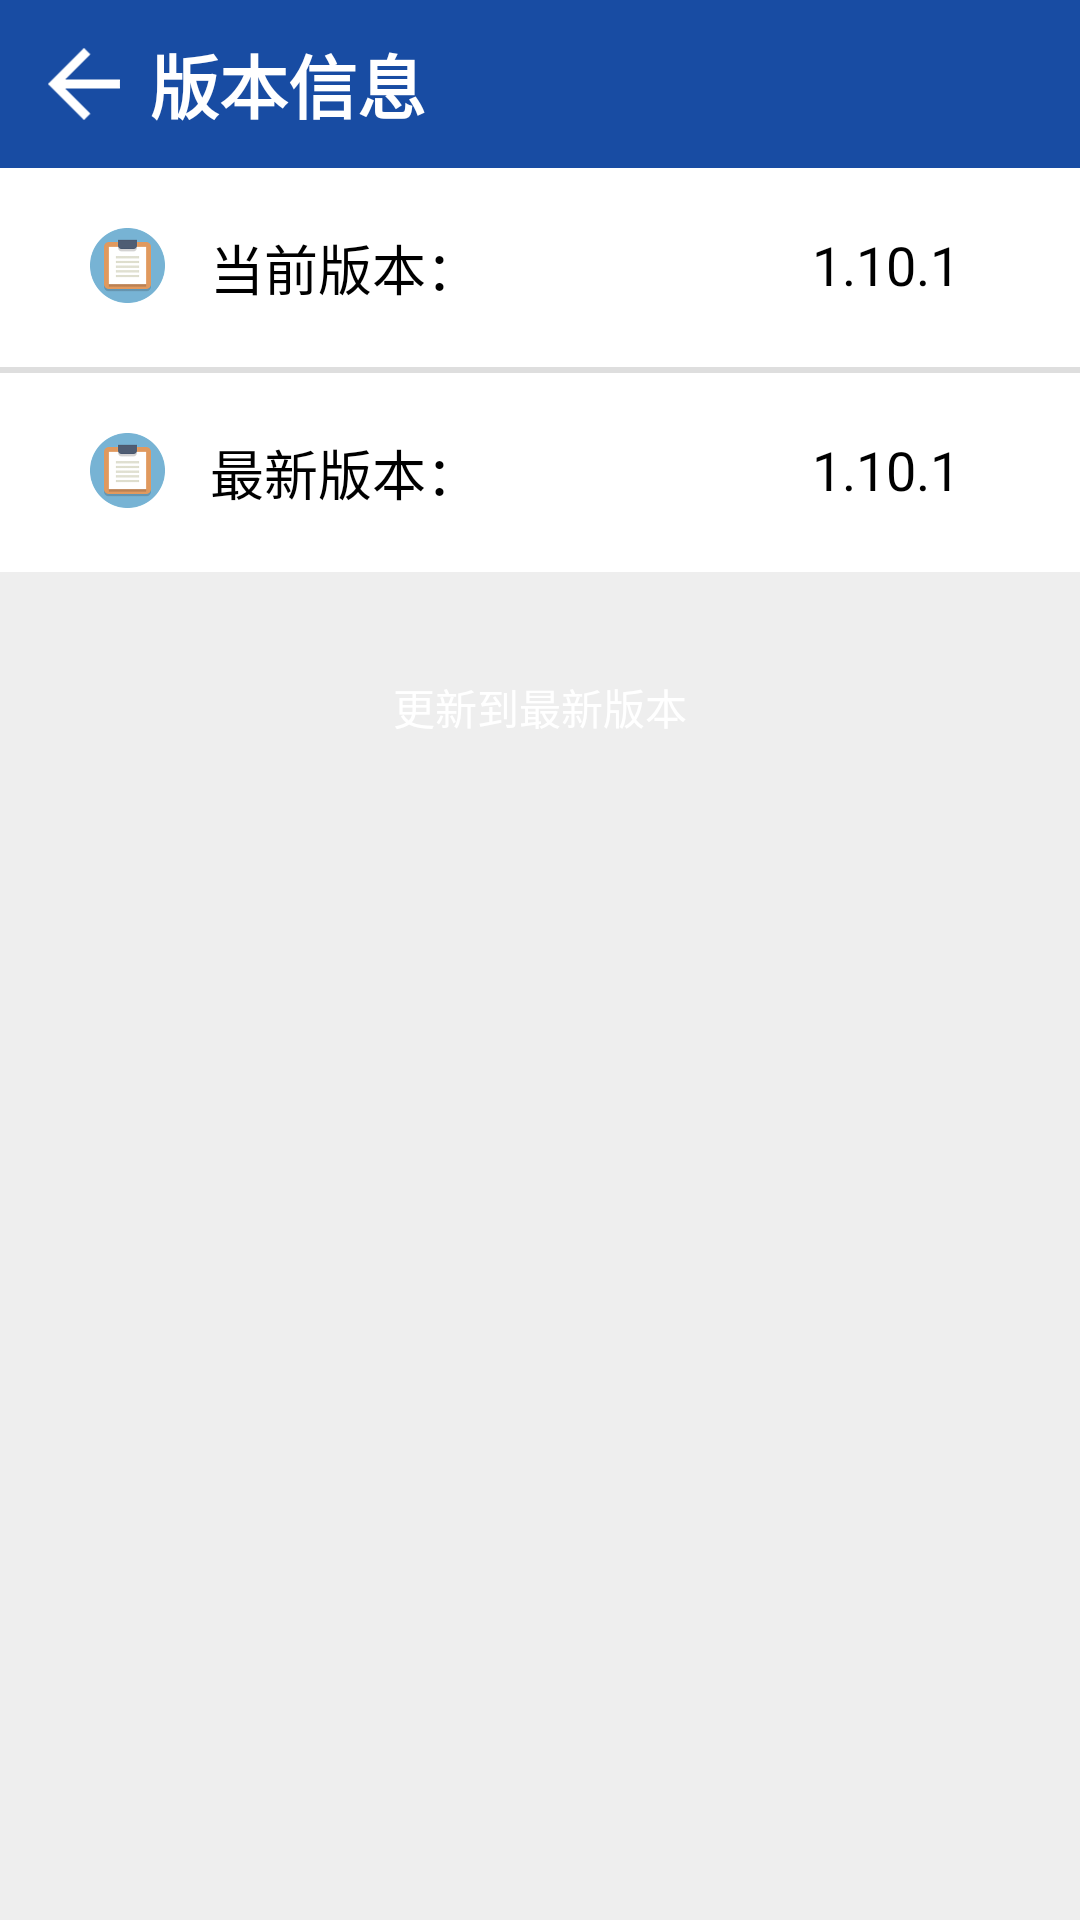

Named icons in this screenshot (1080w x 1920h) and their bounding boxes, (x1, y1, x2, y2):
arrow back: (48, 48, 120, 120)
clipboard: (90, 228, 165, 303), (90, 433, 165, 508)
